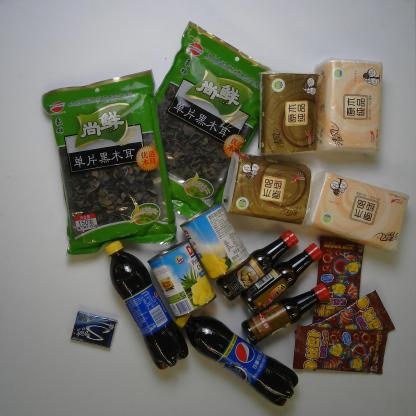Candy: (294, 289, 396, 335), (312, 236, 365, 324), (292, 324, 383, 375)
Canned Food: (179, 204, 250, 281), (146, 242, 216, 318)
Dried Food: (41, 68, 181, 256), (152, 21, 272, 221)
Drink: (173, 312, 299, 406), (104, 240, 191, 369)
Gum: (70, 311, 117, 348)
Seasoner: (244, 242, 325, 316), (217, 230, 299, 299), (242, 284, 330, 346)
Tissue: (304, 170, 410, 252), (221, 152, 312, 225), (315, 59, 382, 158), (257, 69, 316, 154)
